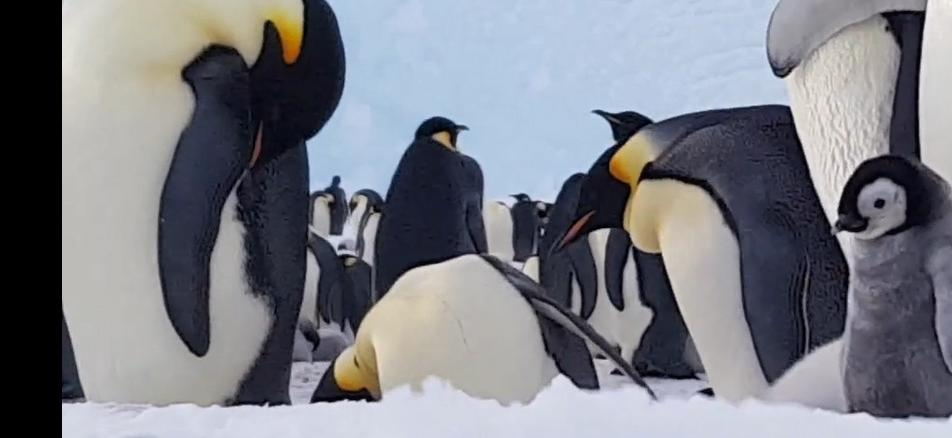Emperor Penguin: (58, 0, 372, 406), (546, 96, 862, 364), (300, 254, 634, 404), (760, 0, 952, 209), (805, 147, 952, 419), (384, 110, 486, 272)
